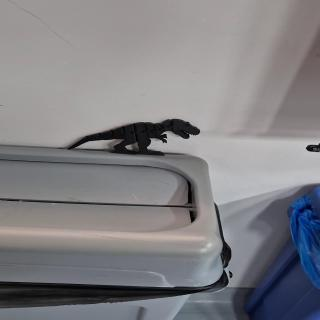dino: (66, 118, 200, 156)
